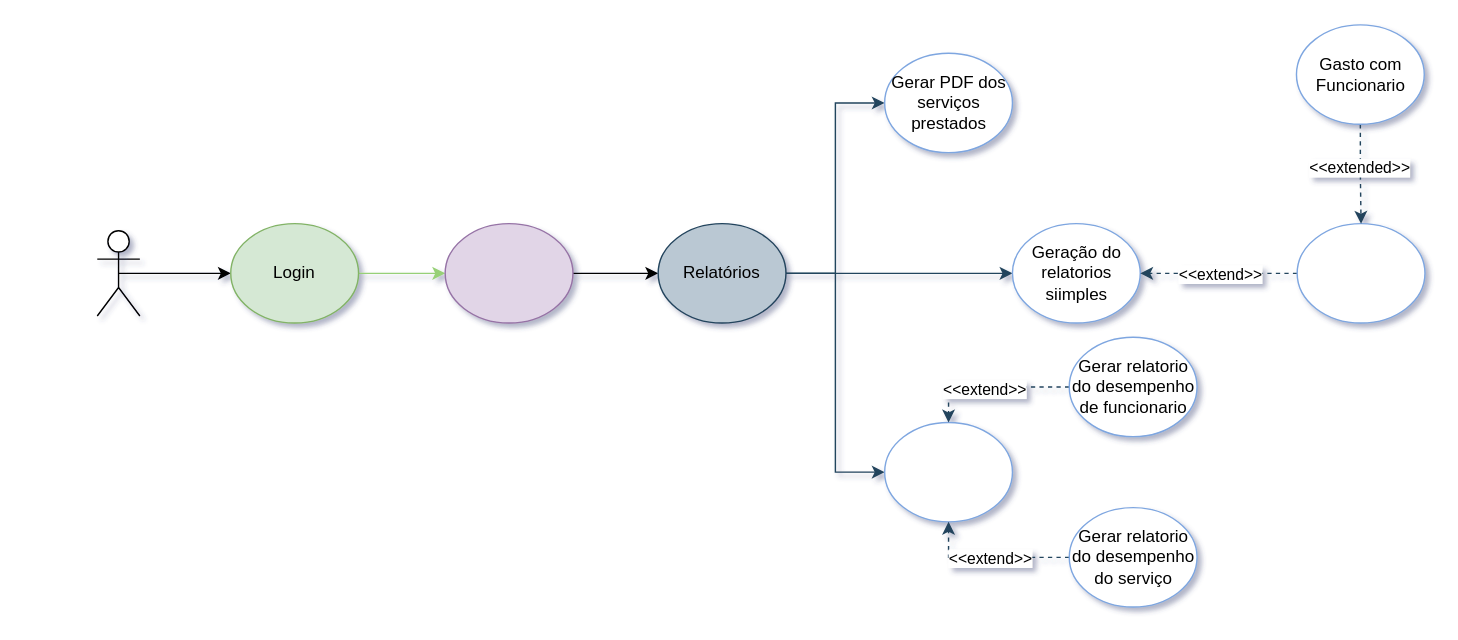
The diagram is 1458 pixels wide and 640 high, and some of its shapes have lost their labels. Each missing label, with the centre of its shape:
Acesso a conta: the point at 508,272
Empreendedor/Utilizador: the point at 118,272
Gerar Relatorio simples Financeiro: the point at 1360,272
Geração do relatorios detalhados: the point at 947,471
